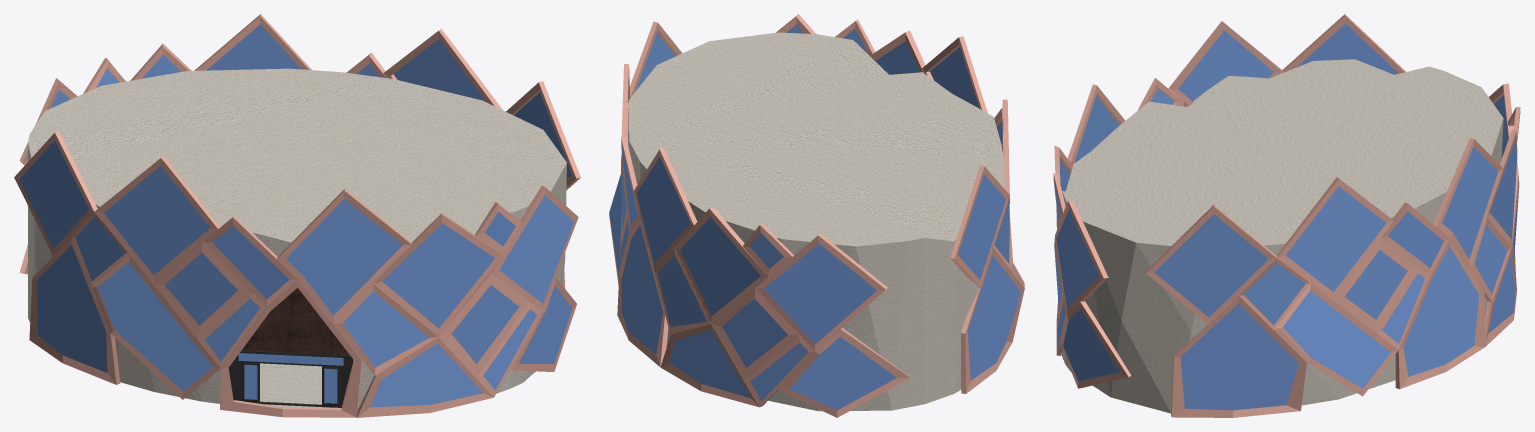
Rendered from Disco 8.fbx.
3 views of the same model, side by side, from view 1: azimuth 30°, elevation 25°; view 2: azimuth 150°, elevation 25°; view 3: azimuth 270°, elevation 25° (orthographic). The views are drawn at different scales.
Parts seen in each view (by area): view 1: Estrcuture, Deco, Deco.009, Deco.005, Deco.011, Deco.003, Deco.035, Deco.002, Deco.014, Deco.012, Deco.001, Cylinder.001 (+15 smaller); view 2: Estrcuture, Deco.035, Deco, Deco.021, Deco.018, Deco.024, Deco.002, Deco.036, Deco.026, Deco.023, Deco.001, Deco.022 (+9 smaller); view 3: Estrcuture, Deco.035, Deco.033, Deco, Deco.034, Deco.036, Deco.032, Deco.030, Deco.026, Deco.003, Deco.017, Deco.014 (+9 smaller).
Boxes of the visible parts, <box> form: Estrcuture: <box>28,68,566,409</box>; Deco: <box>14,131,578,417</box>; Deco.009: <box>286,199,402,315</box>; Deco.005: <box>97,262,212,391</box>; Deco.011: <box>382,223,495,328</box>; Deco.003: <box>104,165,210,275</box>; Deco.035: <box>19,14,580,288</box>; Deco.002: <box>36,245,107,372</box>; Deco.014: <box>499,195,573,303</box>; Deco.012: <box>370,343,483,407</box>; Deco.001: <box>19,140,89,248</box>; Cylinder.001: <box>242,288,349,355</box>; Estrcuture: <box>628,32,1004,411</box>; Deco.035: <box>609,21,910,417</box>; Deco: <box>776,14,1024,393</box>; Deco.021: <box>764,243,876,344</box>; Deco.018: <box>789,337,896,410</box>; Deco.024: <box>680,217,760,315</box>; Deco.002: <box>967,255,1021,380</box>; Deco.036: <box>621,225,663,354</box>; Deco.026: <box>636,157,690,262</box>; Deco.023: <box>670,329,750,398</box>; Deco.001: <box>958,174,1005,279</box>; Deco.022: <box>722,298,787,367</box>; Estrcuture: <box>1062,59,1503,413</box>; Deco.035: <box>1145,83,1520,417</box>; Deco.033: <box>1180,303,1299,410</box>; Deco: <box>1053,14,1405,388</box>; Deco.034: <box>1154,214,1268,317</box>; Deco.036: <box>1403,246,1479,376</box>; Deco.032: <box>1286,186,1386,291</box>; Deco.030: <box>1283,290,1390,388</box>; Deco.026: <box>1442,146,1497,259</box>; Deco.003: <box>1178,30,1273,101</box>; Deco.017: <box>1063,309,1119,381</box>; Deco.014: <box>1056,209,1098,307</box>.
Size of the model in its own units: 3459 by 1829 by 3482.
